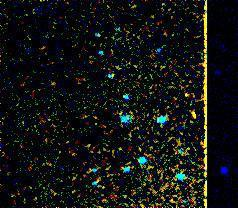star: (176, 102, 206, 132)
